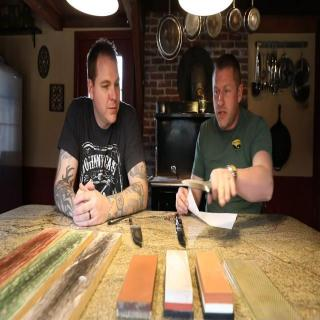knife: (177, 162, 229, 206)
